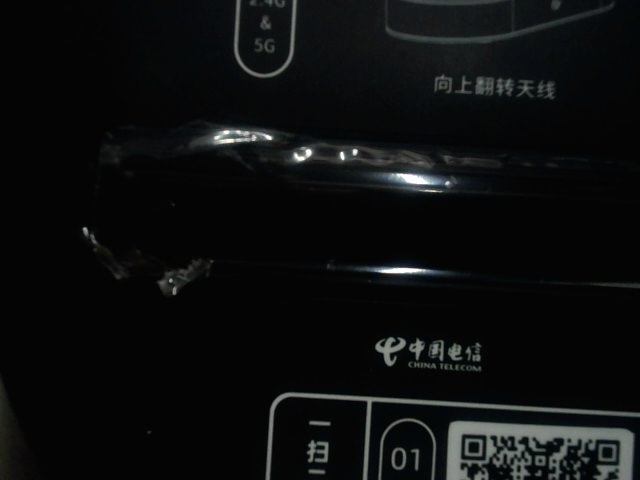AB_ChinaTelecom: (370, 326, 491, 376)
